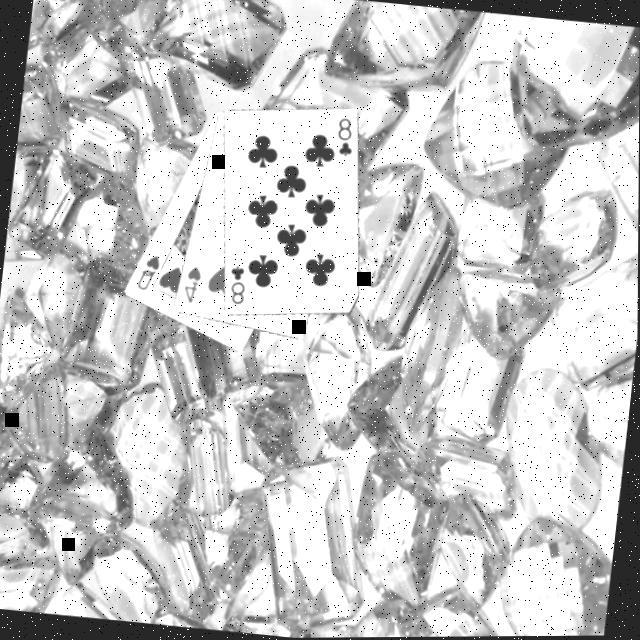4H: (178, 262, 202, 306)
8C: (222, 260, 248, 306), (330, 114, 356, 160)
QH: (131, 249, 161, 293)
